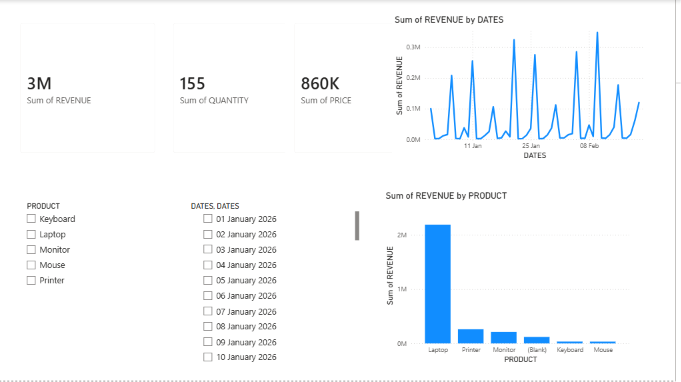

The dashboard page shown, as its layout file describes it:
{"tool":"powerbi","page":{"name":"Page 1","canvas":[1280,720],"ordinal":0},"visuals":[{"type":"cardVisual","fields":{"Data":["Sum(Sheet1.QUANTITY)"]},"box":[313.7,26.5,289.1,279.7],"z":0},{"type":"cardVisual","fields":{"Data":["Sum(Sheet1.REVENUE)"]},"box":[24.6,26.5,289.1,279.7],"z":1000},{"type":"cardVisual","fields":{"Data":["Sum(Sheet1.PRICE)"]},"box":[542.4,26.5,289.1,279.7],"z":2000},{"type":"lineChart","fields":{"Y":["Sum(Sheet1.REVENUE)"],"Category":["Sheet1.DATES"]},"box":[744.6,26.5,489.5,279.7],"z":3000},{"type":"slicer","fields":{"Values":["Sheet1.PRODUCT"]},"box":[41.6,376.1,309.9,315.6],"z":4000},{"type":"slicer","fields":{"Values":["Sheet1.DATES","Sheet1.DATES"]},"box":[351.5,376.1,336.4,315.6],"z":5000},{"type":"clusteredColumnChart","fields":{"Category":["Sheet1.PRODUCT"],"Y":["Sum(Sheet1.REVENUE)"]},"box":[727.6,359.1,470.6,332.6],"z":5001}]}

Visuals, with their boxes in screenshot pixels (x1, y1, x2, y2), scaled from the page's 1280x720 canvas onto the 681x382 screenshot:
cardVisual - Sum(Sheet1.QUANTITY): bbox=(167, 14, 321, 162)
cardVisual - Sum(Sheet1.REVENUE): bbox=(13, 14, 167, 162)
cardVisual - Sum(Sheet1.PRICE): bbox=(289, 14, 442, 162)
lineChart - Sum(Sheet1.REVENUE) x Sheet1.DATES: bbox=(396, 14, 657, 162)
slicer - Sheet1.PRODUCT: bbox=(22, 200, 187, 367)
slicer - Sheet1.DATES x Sheet1.DATES: bbox=(187, 200, 366, 367)
clusteredColumnChart - Sheet1.PRODUCT x Sum(Sheet1.REVENUE): bbox=(387, 191, 637, 367)
